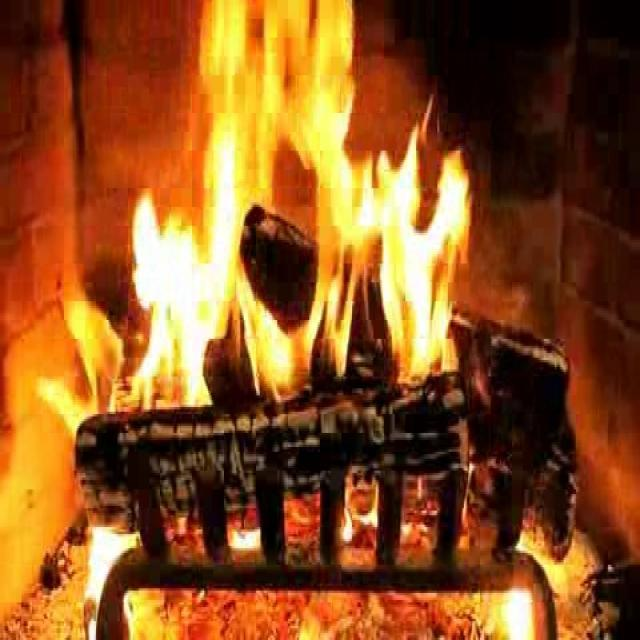Fire: (116, 14, 480, 402)
